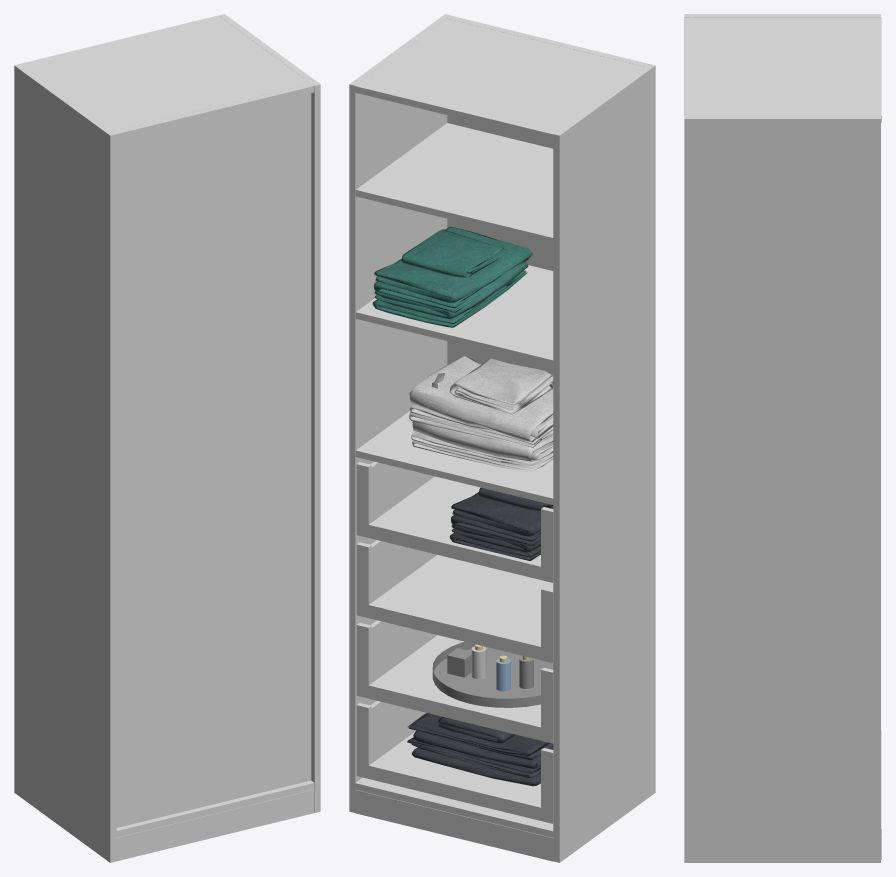
File: 01685_Bundle_C.gltf
The picture shows the model from 3 angles, left to right: view 1: azimuth 30°, elevation 25°; view 2: azimuth 150°, elevation 25°; view 3: azimuth 270°, elevation 25°; orthographic projection. The views are drawn at different scales.
Visible parts, largest first — view 1: Wardrobe Base; view 2: Wardrobe Base, Drawer_Glass 1-Gloss White, Shelf, Clothing, Clothing.2, Drawer_Glass 2-Gloss White, Drawer_Glass 4-Gloss White, Drawer_Glass 3-Gloss White, Shelf_1, Clothing.3, Shelf_2, Clothing.1 (+2 smaller); view 3: Wardrobe Base.
Part boxes in pixels (<box>): Wardrobe Base: <box>14,14,320,862</box>; Wardrobe Base: <box>349,14,655,862</box>; Drawer_Glass 1-Gloss White: <box>356,540,553,662</box>; Shelf: <box>355,123,553,244</box>; Clothing: <box>409,356,553,471</box>; Clothing.2: <box>372,226,532,327</box>; Drawer_Glass 2-Gloss White: <box>356,461,553,582</box>; Drawer_Glass 4-Gloss White: <box>356,620,553,743</box>; Drawer_Glass 3-Gloss White: <box>356,701,553,823</box>; Shelf_1: <box>355,265,553,366</box>; Clothing.3: <box>407,713,553,786</box>; Shelf_2: <box>355,411,553,504</box>; Clothing.1: <box>449,487,553,560</box>; Wardrobe Base: <box>684,14,881,862</box>.
Size of what is drawn, in the model's own units: 0.6059 by 2 by 0.4804.
Materials: 9 (3 with a texture image).
